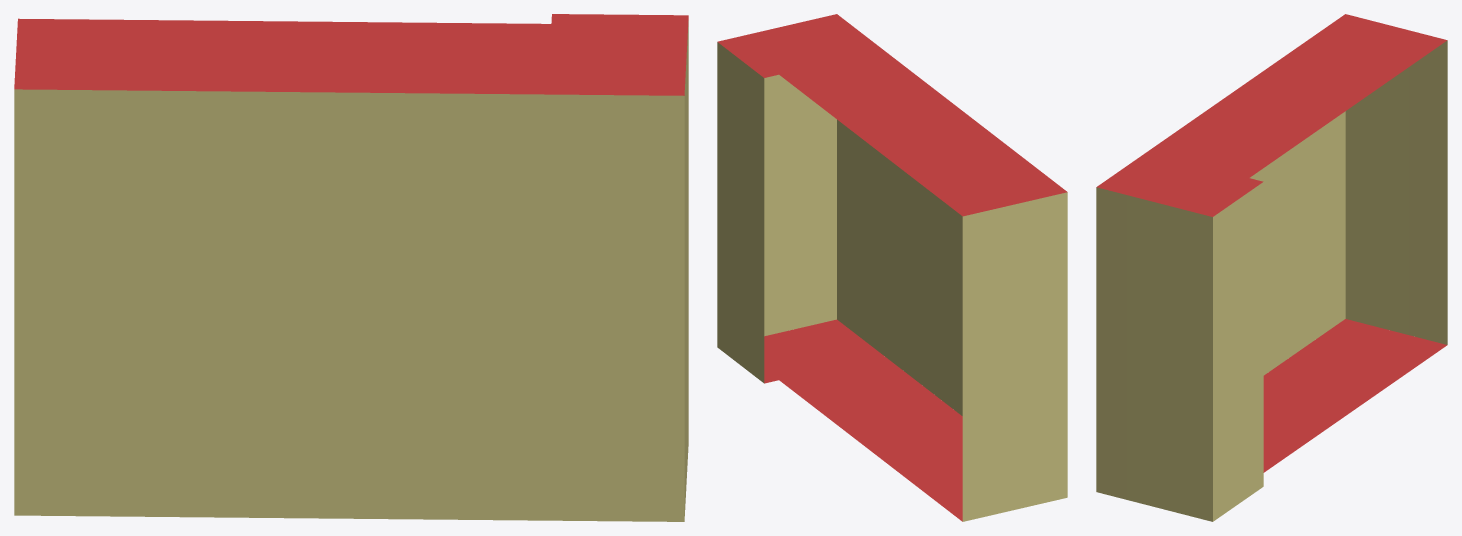
3 renders of one model, left to right at view 1: azimuth 30°, elevation 25°; view 2: azimuth 150°, elevation 25°; view 3: azimuth 270°, elevation 25°, orthographic. The views are drawn at different scales.
Visible parts, largest first — view 1: group_4, group_3; view 2: group_4, group_3, group_5; view 3: group_4, group_3, group_5.
Part boxes in pixels (left/top/right/bottom): group_4: left=14, top=21, right=688, bottom=521; group_3: left=14, top=14, right=688, bottom=95; group_4: left=717, top=42, right=1067, bottom=521; group_3: left=717, top=14, right=1067, bottom=216; group_5: left=764, top=319, right=962, bottom=521; group_4: left=1096, top=40, right=1447, bottom=521; group_3: left=1096, top=14, right=1447, bottom=216; group_5: left=1263, top=319, right=1447, bottom=472.
Size of the model in its own units: 10.8 by 7.9 by 7.56.
